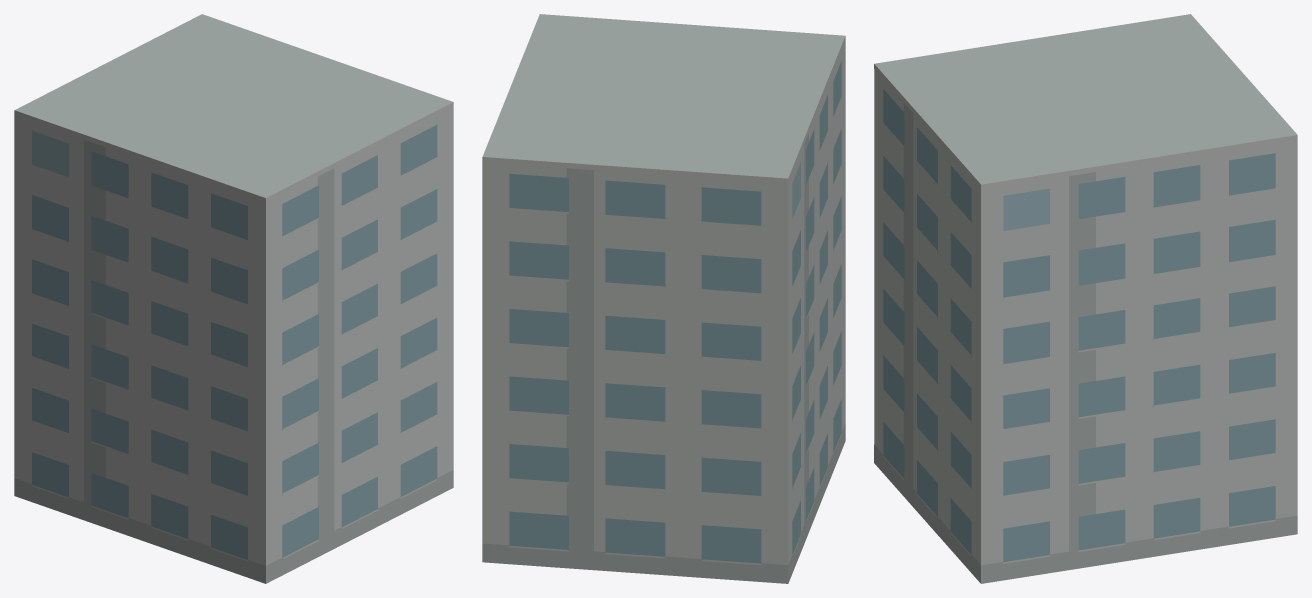
Rendered from survey-upis-32982234.glb.
The picture shows the model from 3 angles, left to right: view 1: azimuth 30°, elevation 25°; view 2: azimuth 150°, elevation 25°; view 3: azimuth 270°, elevation 25°; orthographic projection. The views are drawn at different scales.
Parts seen in each view (by area): view 1: survey-upis-32982234.tmp; view 2: survey-upis-32982234.tmp; view 3: survey-upis-32982234.tmp.
Part boxes in pixels (<box>): survey-upis-32982234.tmp: <box>14,14,453,583</box>; survey-upis-32982234.tmp: <box>482,14,845,583</box>; survey-upis-32982234.tmp: <box>874,14,1297,583</box>.
Bounding box in the file's own units: 16.78 × 18.3 × 17.6.
